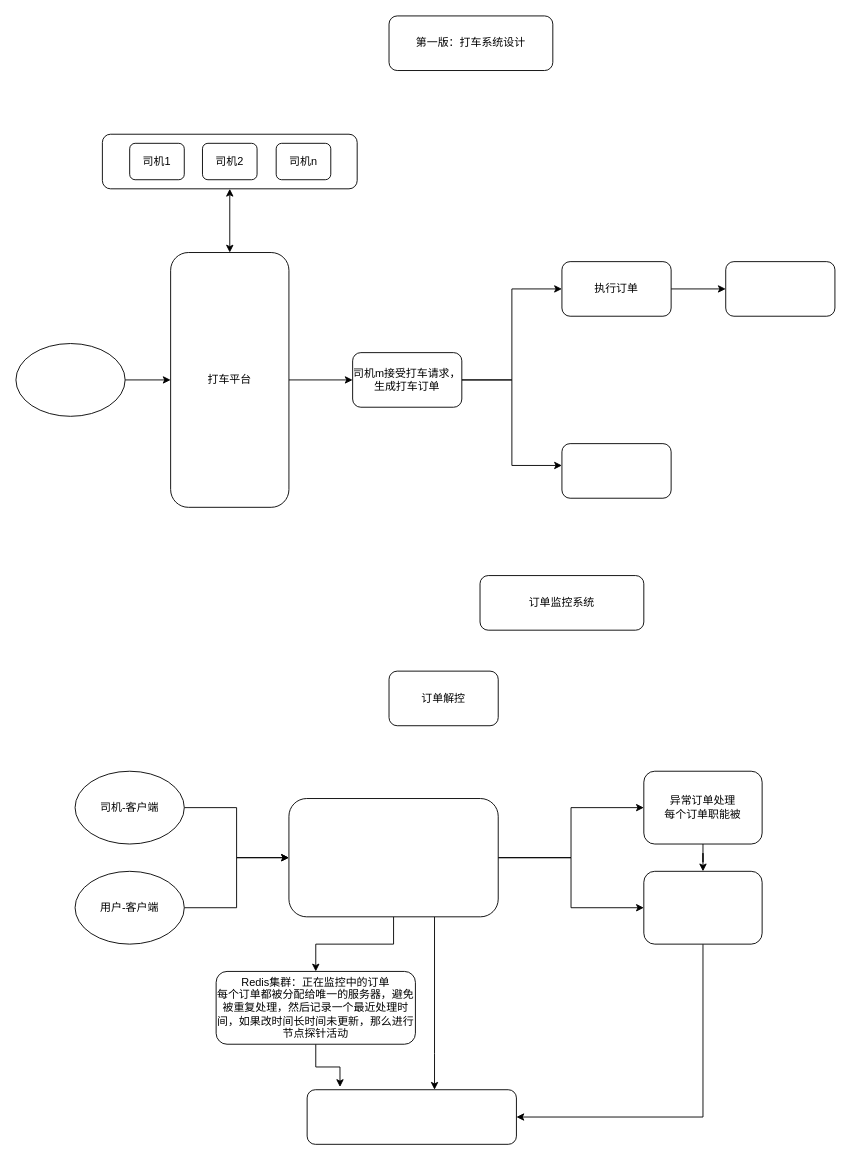
The diagram is 851 pixels wide and 1160 high, and some of its shapes have lost their labels. The shapes that lost their labels are listed below. From the top down, each one's box as (x1, y1, x2, y2) in pixels, then its label:
(725, 261, 835, 316): 完成订单
(15, 343, 125, 416): 用户发送打车需求
(561, 443, 671, 498): 用户取消订单
(288, 798, 498, 917): 订单监控平台： 1.根据订单号实时比对坐标位置信息 2. 已完成的订单从监控列表中进行移除
(643, 870, 762, 944): 结束订单
(306, 1089, 516, 1144): Mysql集群+MongoDB集群
